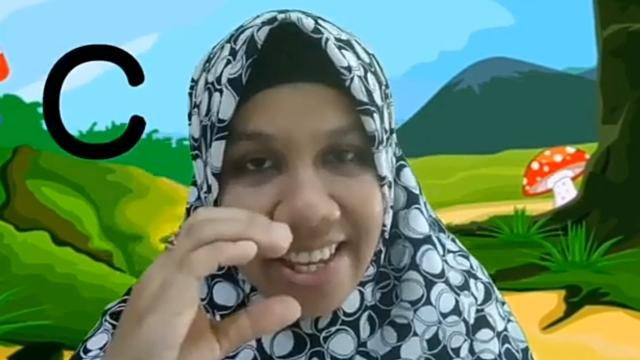C: (104, 204, 302, 360)
